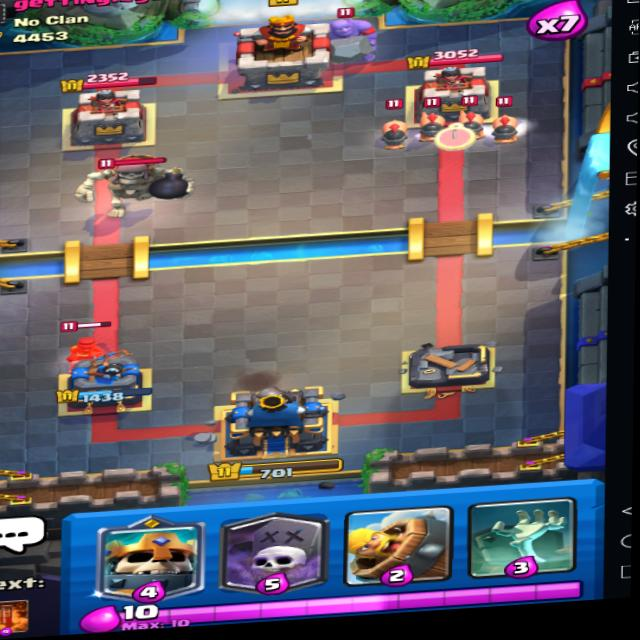Bowler: (316, 3, 398, 66)
Giantskeleton: (70, 145, 197, 219)
Ramrider: (53, 308, 126, 373)
Royalhogs: (376, 96, 414, 154), (416, 92, 450, 149), (487, 94, 520, 145), (454, 94, 488, 141)
